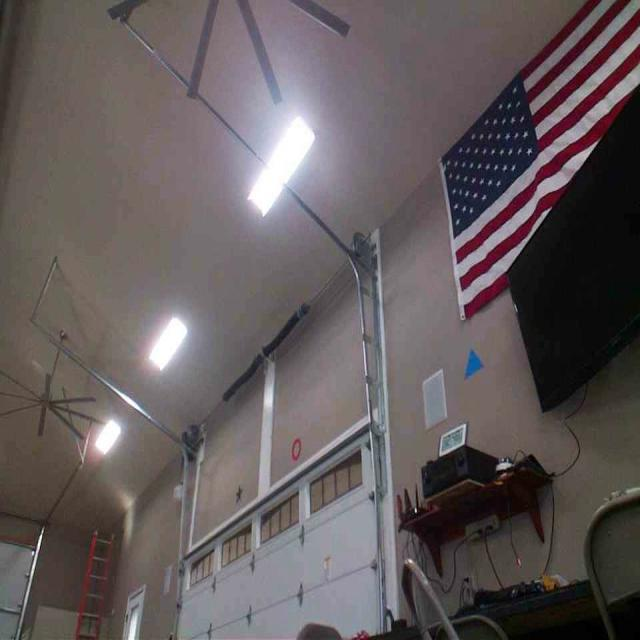ring_red: (289, 436, 301, 460)
star_black: (234, 484, 243, 503)
triangle_blue: (462, 346, 483, 378)
